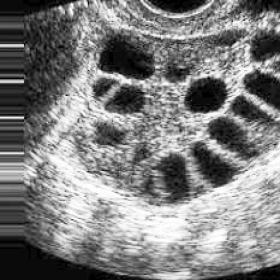PCOS: (190, 145, 231, 186), (106, 42, 152, 78), (163, 154, 185, 199), (253, 68, 280, 104), (218, 117, 240, 152), (252, 35, 280, 59), (236, 96, 258, 126), (164, 64, 192, 85), (114, 89, 138, 113), (190, 85, 215, 106), (136, 142, 155, 161), (94, 72, 110, 94), (105, 126, 123, 144)
